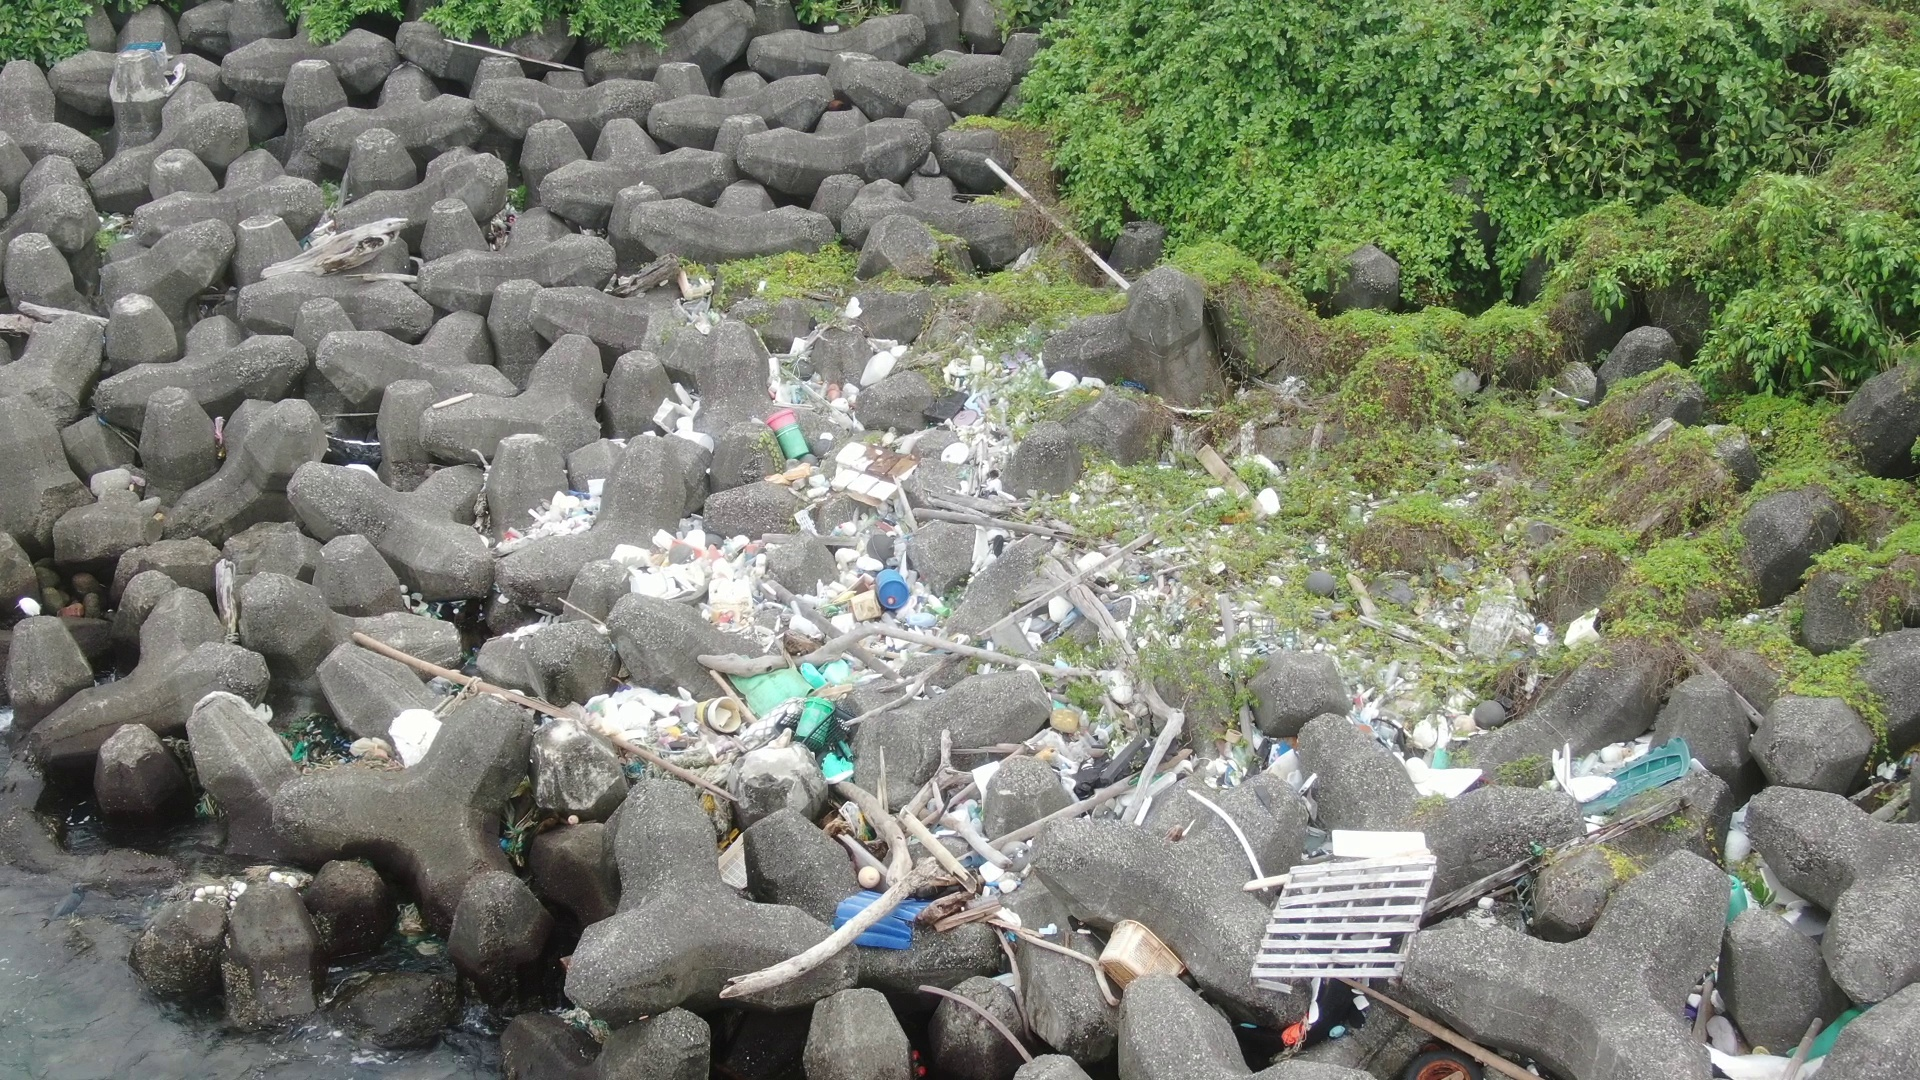garbage: (483, 274, 1044, 793), (1054, 527, 1320, 811), (1244, 827, 1443, 1044), (795, 795, 1050, 963), (1675, 976, 1900, 1080), (1356, 676, 1507, 810), (1545, 724, 1712, 822), (1095, 910, 1197, 996), (280, 708, 349, 775), (393, 582, 483, 632), (1396, 1038, 1501, 1080), (396, 894, 459, 960), (495, 795, 543, 876), (1712, 861, 1759, 928), (116, 36, 173, 69)
